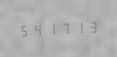five: (17, 22, 29, 38)
four: (30, 21, 42, 37)
one: (44, 20, 56, 37), (70, 19, 82, 35)
seven: (57, 20, 69, 36)
three: (83, 18, 95, 35)
